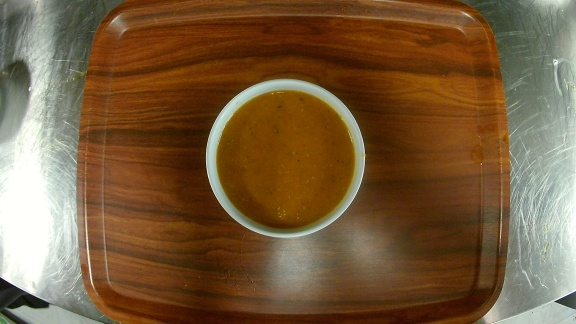ezogelin: (203, 76, 367, 240)
